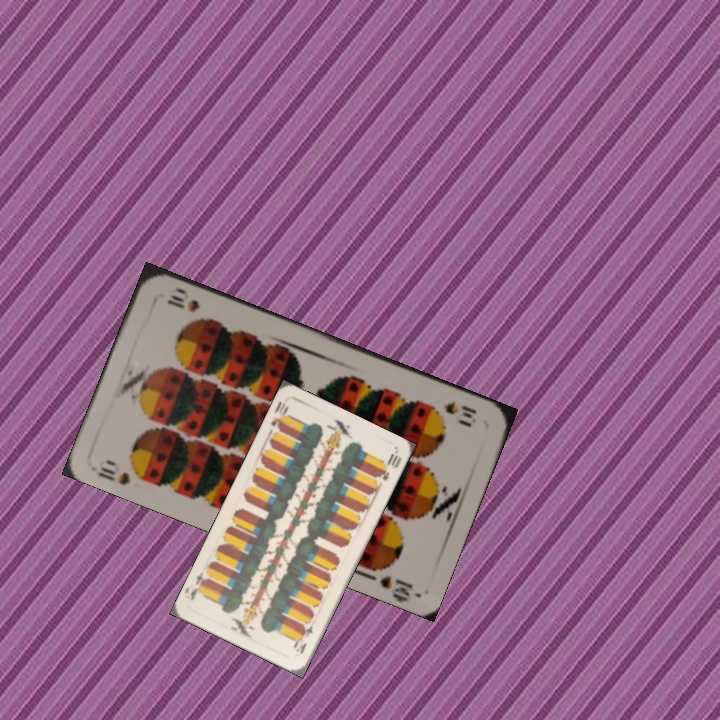E10: (266, 398, 291, 437), (291, 621, 315, 656)
S10: (93, 462, 133, 488), (440, 397, 479, 421)
